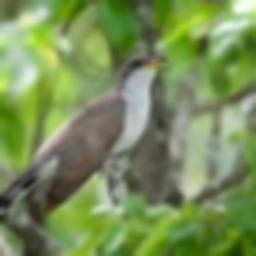Cuckoo: (0, 55, 168, 238)
